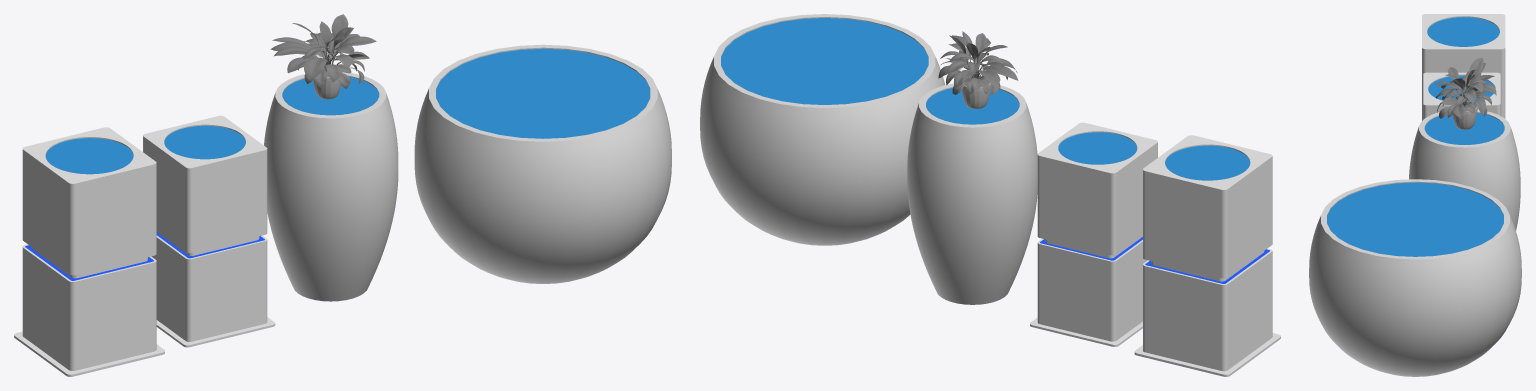
The model's file is 小展台5.FBX.
3 views of the same model, side by side, from view 1: azimuth 30°, elevation 25°; view 2: azimuth 150°, elevation 25°; view 3: azimuth 270°, elevation 25° (orthographic). The views are drawn at different scales.
Parts seen in each view (by area): view 1: Cone002, Cone001, Rectangle009, Rectangle010, Rectangle004, Rectangle003, VRayProxy_Obj3d66-569506-2263-769, Rectangle007, Rectangle005, Rectangle011, Rectangle002; view 2: Cone002, Cone001, Rectangle009, Rectangle010, Rectangle004, Rectangle003, VRayProxy_Obj3d66-569506-2263-769, Rectangle007, Rectangle005, Rectangle011, Rectangle002; view 3: Cone002, Cone001, Rectangle009, VRayProxy_Obj3d66-569506-2263-769, Rectangle007, Rectangle004, Rectangle005.
Boxes of the visible parts, x1,y1,x2,y2 form: Cone002: (414, 44, 671, 283); Cone001: (264, 72, 398, 301); Rectangle009: (22, 127, 156, 275); Rectangle010: (22, 244, 156, 370); Rectangle004: (143, 115, 267, 252); Rectangle003: (151, 232, 267, 341); VRayProxy_Obj3d66-569506-2263-769: (270, 14, 376, 99); Rectangle007: (45, 138, 133, 174); Rectangle005: (164, 125, 245, 159); Rectangle011: (14, 331, 164, 376); Rectangle002: (156, 317, 275, 347); Cone002: (700, 14, 944, 245); Cone001: (907, 83, 1037, 304); Rectangle009: (1143, 135, 1272, 278); Rectangle010: (1143, 248, 1272, 371); Rectangle004: (1037, 122, 1157, 255); Rectangle003: (1037, 237, 1147, 341); VRayProxy_Obj3d66-569506-2263-769: (938, 31, 1018, 108); Rectangle007: (1165, 145, 1250, 180); Rectangle005: (1058, 132, 1137, 164); Rectangle011: (1134, 333, 1280, 376); Rectangle002: (1030, 317, 1142, 346); Cone002: (1309, 179, 1521, 376); Cone001: (1409, 109, 1520, 230); Rectangle009: (1422, 14, 1505, 120); VRayProxy_Obj3d66-569506-2263-769: (1434, 57, 1496, 129); Rectangle007: (1427, 17, 1499, 46); Rectangle004: (1423, 72, 1500, 119); Rectangle005: (1428, 75, 1495, 102).
Size of the model in its own units: 2893 by 1239 by 1101.
